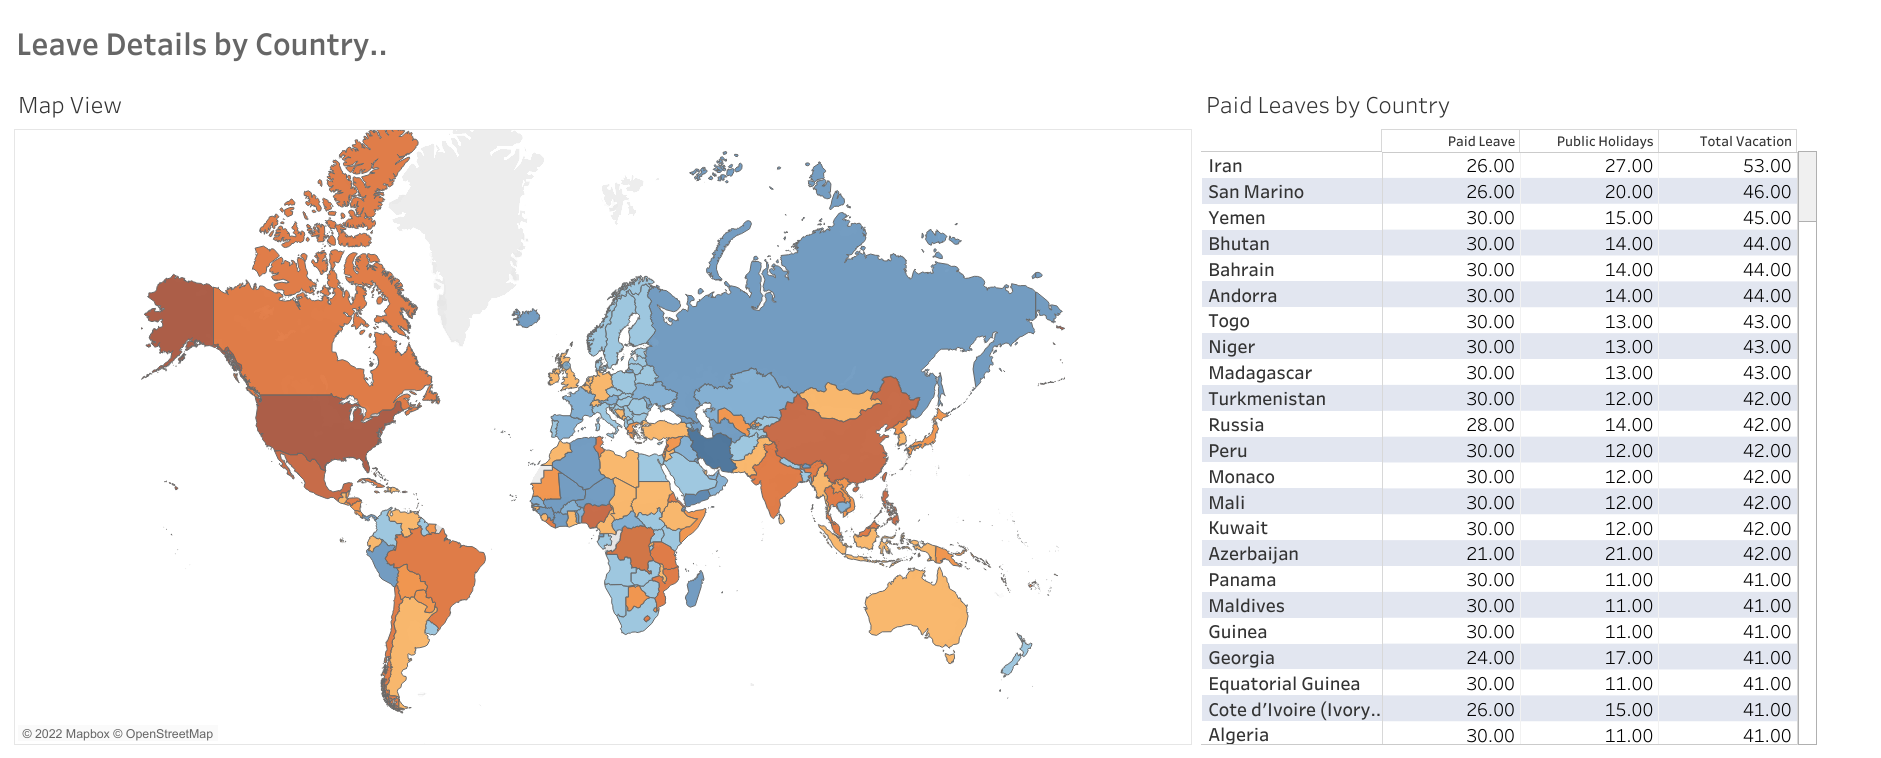

This screenshot's page, from the dashboard's own definition file:
{"tool":"tableau","page":{"name":"Dashboard 1","canvas":[1000,1000],"units":"permille","ordinal":0},"visuals":[{"type":"text","box":[4.8,9.4,990.3,89.3]},{"type":"worksheet","title":"Map View","mark":"Multipolygon","box":[4.8,98.7,631.3,891.9]},{"type":"worksheet","title":"Paid Leaves by Country","mark":"Automatic","rows":["Country"],"box":[636.1,98.7,359.1,891.9]}]}

Visuals, with their boxes on the dashboard's canvas, which has no fixed pixel size, in thousandths of its width and height (x1, y1, x2, y2). These are canvas units, not pixel positions in the 1881x758 screenshot, which may show the page scaled, cropped or inside an application window:
text: BBox(5, 9, 995, 99)
"Map View" worksheet (Multipolygon marks): BBox(5, 99, 636, 991)
"Paid Leaves by Country" worksheet: BBox(636, 99, 995, 991)
